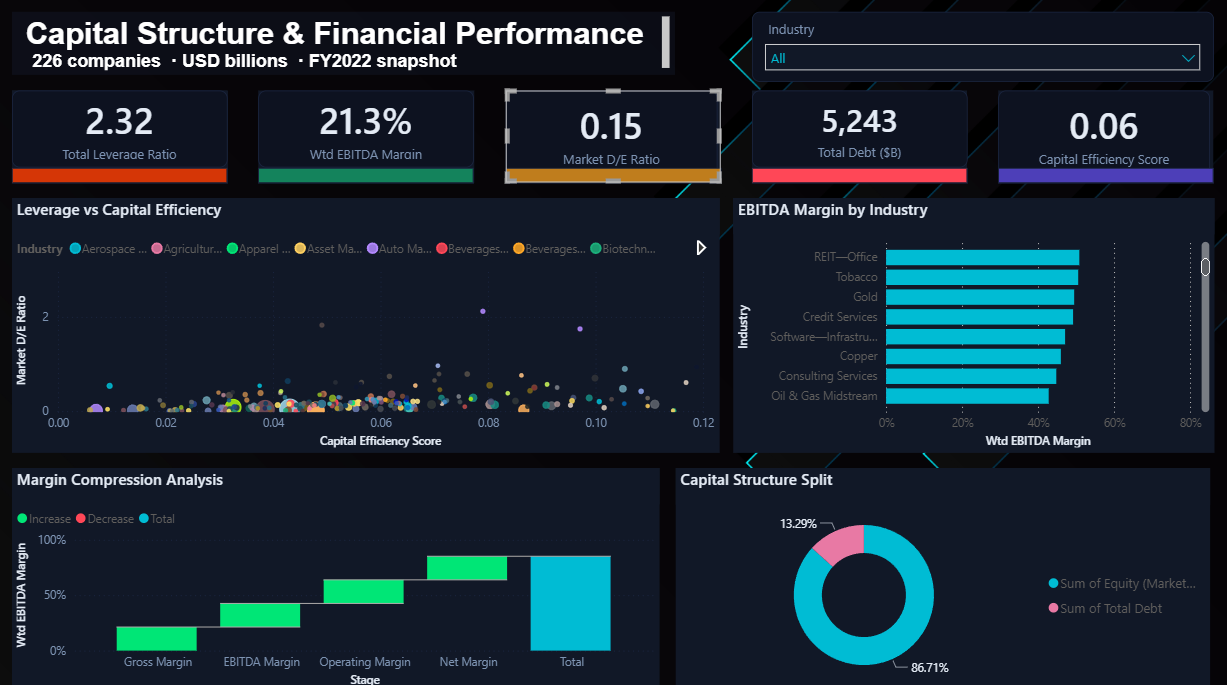

The page's visual inventory and layout, read from the dashboard file:
{"tool":"powerbi","page":{"name":"Overview Dashboard","canvas":[1280,720],"ordinal":0},"visuals":[{"type":"textbox","box":[15.8,14.6,688.6,65.6],"z":0},{"type":"group","id":"g1","title":"Group 2","box":[272,96,224,96],"z":1000},{"type":"shape","box":[16,176,224,16],"z":1000,"group":"g6"},{"type":"group","id":"g2","title":"Group 1","box":[16,96,224,80],"z":2000,"group":"g6"},{"type":"card","fields":{"Values":["_Measures.Total Leverage Ratio"]},"box":[16,96,224,80],"z":2000,"group":"g2"},{"type":"card","fields":{"Values":["_Measures.Wtd EBITDA Margin"]},"box":[272,96,224,80],"z":2000,"group":"g1"},{"type":"group","id":"g3","title":"Group 2","box":[784,96,224,96],"z":2000},{"type":"card","fields":{"Values":["_Measures.Total Debt ($B)"]},"box":[784,96,224,80],"z":2000,"group":"g3"},{"type":"group","id":"g4","title":"Group 3","box":[528,96,224,96],"z":3000},{"type":"card","fields":{"Values":["_Measures.Market D/E Ratio"]},"box":[528,96,220,90],"z":3000,"group":"g4"},{"type":"card","fields":{"Values":["_Measures.Capital Efficiency Score"]},"box":[1040,96,220,90],"z":3000,"group":"g5"},{"type":"group","id":"g5","title":"Group 3","box":[1040,96,224,96],"z":4000},{"type":"shape","box":[272,176,224,16],"z":4500,"group":"g1"},{"type":"shape","box":[784,176,224,16],"z":4500,"group":"g3"},{"type":"scatterChart","title":"Leverage vs Capital Efficiency","fields":{"X":["_Measures.Capital Efficiency Score"],"Y":["_Measures.Market D/E Ratio"],"Size":["Sum(FactCompanyMetrics.marketCap_USDmm)"],"Series":["DimIndustry.industry"],"Category":["DimCompany.symbol"]},"box":[15.9,207.6,735.2,264.5],"z":5000},{"type":"donutChart","title":"Capital Structure Split","fields":{"Y":["Sum(FactCompanyMetrics.Equity (Market Cap))","Sum(FactCompanyMetrics.Total Debt)"]},"box":[704.8,487.9,555.4,231.4],"z":6000},{"type":"shape","box":[528,176,224,16],"z":7000,"group":"g4"},{"type":"shape","box":[1040,176,224,16],"z":7000,"group":"g5"},{"type":"clusteredBarChart","title":"EBITDA Margin by Industry","fields":{"Category":["DimIndustry.industry"],"Y":["_Measures.Wtd EBITDA Margin"]},"box":[764.3,207.6,499.8,264.5],"z":7000},{"type":"waterfallChart","title":"Margin Compression Analysis","fields":{"Y":["_Measures.Wtd EBITDA Margin"],"Category":["MarginStages.Stage"]},"box":[15.9,487.9,673.1,232.7],"z":8000},{"type":"group","id":"g6","title":"Group 4","box":[16,96,224,96],"z":9000},{"type":"slicer","fields":{"Values":["DimIndustry.industry"]},"box":[784.5,14.6,479.7,72.9],"z":9001}]}

Visuals, with their boxes in screenshot pixels (x1, y1, x2, y2), scaled from the page's 1280x720 canvas onto the 1227x685 screenshot:
textbox: box=[15, 14, 675, 76]
"Group 2" group: box=[261, 91, 475, 183]
shape: box=[15, 167, 230, 183]
"Group 1" group: box=[15, 91, 230, 167]
card - _Measures.Total Leverage Ratio: box=[15, 91, 230, 167]
card - _Measures.Wtd EBITDA Margin: box=[261, 91, 475, 167]
"Group 2" group: box=[752, 91, 966, 183]
card - _Measures.Total Debt ($B): box=[752, 91, 966, 167]
"Group 3" group: box=[506, 91, 721, 183]
card - _Measures.Market D/E Ratio: box=[506, 91, 717, 177]
card - _Measures.Capital Efficiency Score: box=[997, 91, 1208, 177]
"Group 3" group: box=[997, 91, 1212, 183]
shape: box=[261, 167, 475, 183]
shape: box=[752, 167, 966, 183]
"Leverage vs Capital Efficiency" scatterChart: box=[15, 198, 720, 449]
"Capital Structure Split" donutChart: box=[676, 464, 1208, 684]
shape: box=[506, 167, 721, 183]
shape: box=[997, 167, 1212, 183]
"EBITDA Margin by Industry" clusteredBarChart: box=[733, 198, 1212, 449]
"Margin Compression Analysis" waterfallChart: box=[15, 464, 660, 684]
"Group 4" group: box=[15, 91, 230, 183]
slicer - DimIndustry.industry: box=[752, 14, 1212, 83]
